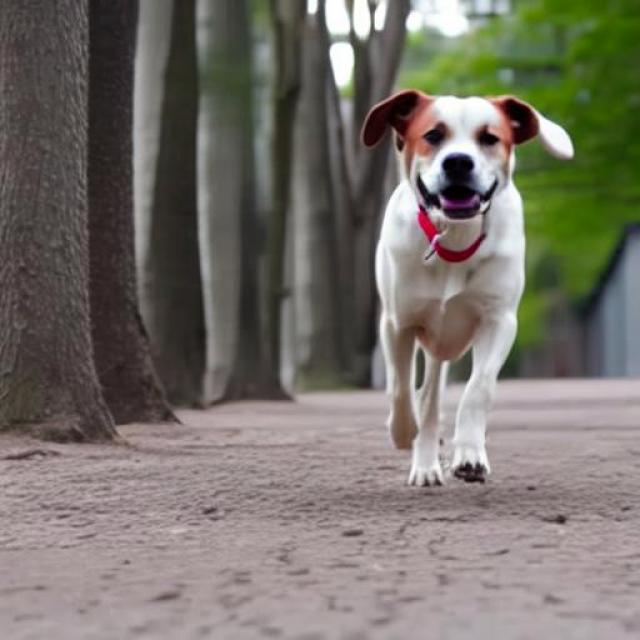Dog: (360, 88, 574, 488)
